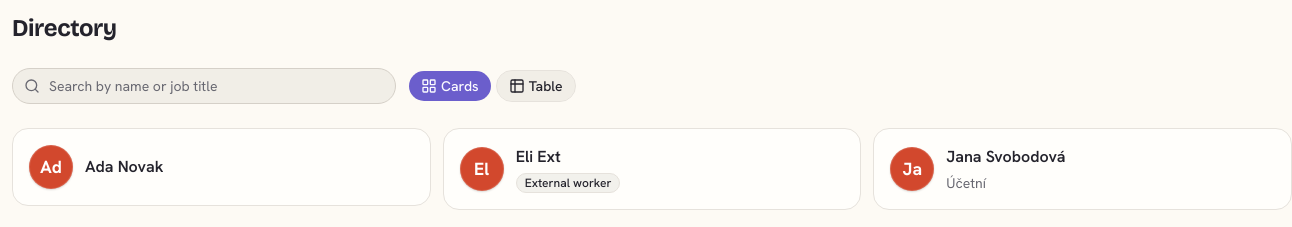
Scenario: DirectoryScreen › searches on name, ignoring case and accents
In the search field labelled "Search by name or job title": (204, 86) x1=12 y1=68 x2=396 y2=104, type "svobodova"
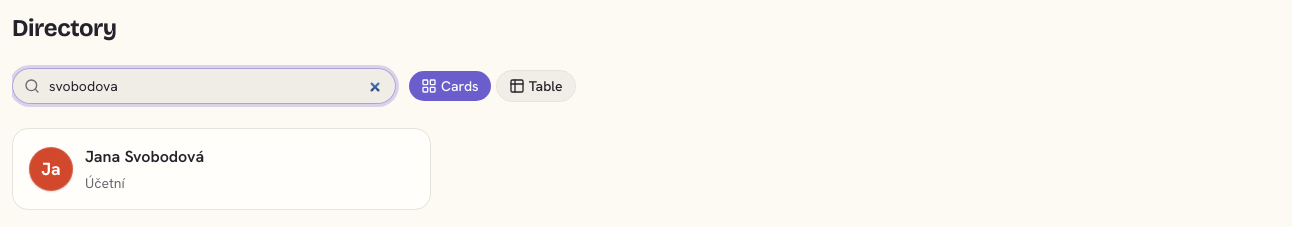
Replace the text in the search field named "Search by name or job title" with "zed": (204, 86) x1=12 y1=68 x2=396 y2=104
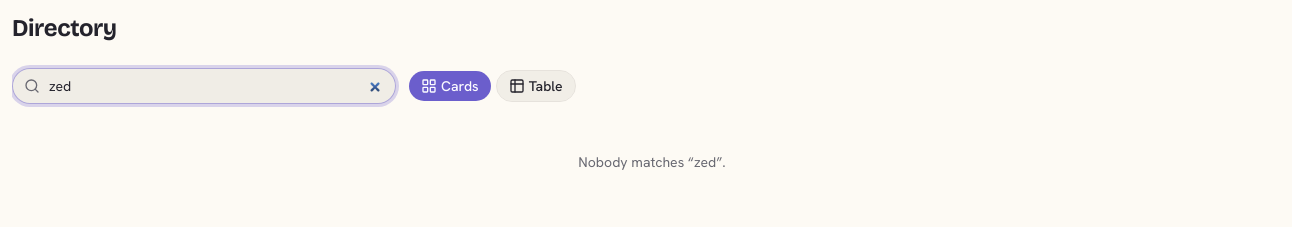
Check: the text "Nobody matches “zed”." is shown, box x1=578 y1=153 x2=726 y2=171
